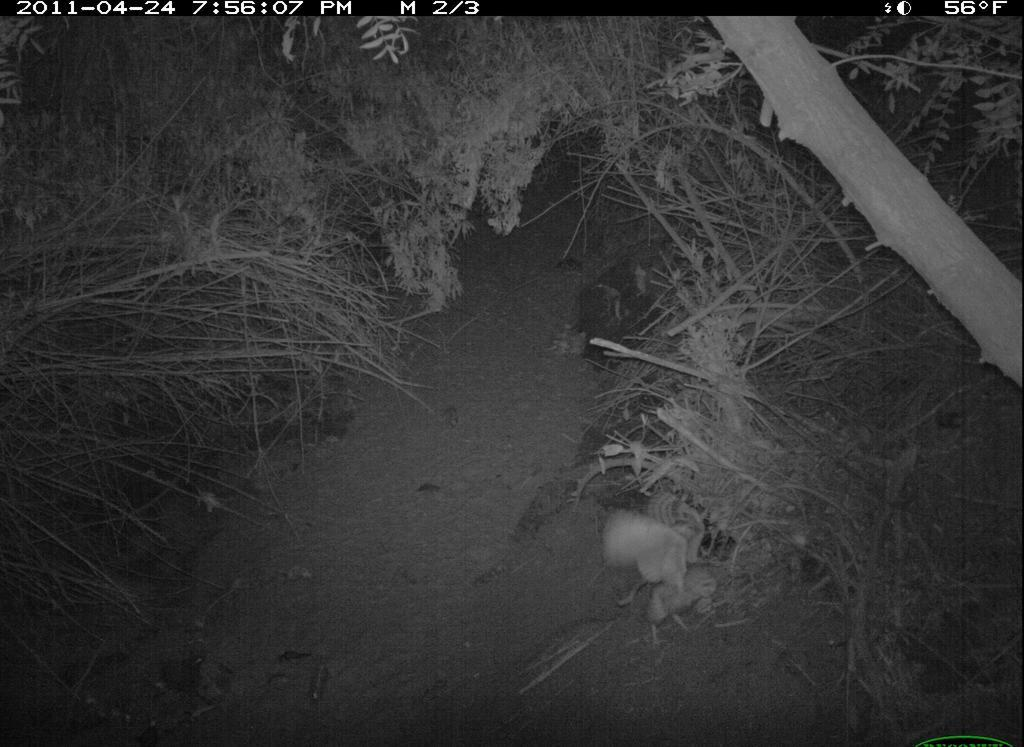bird: (596, 496, 738, 648)
